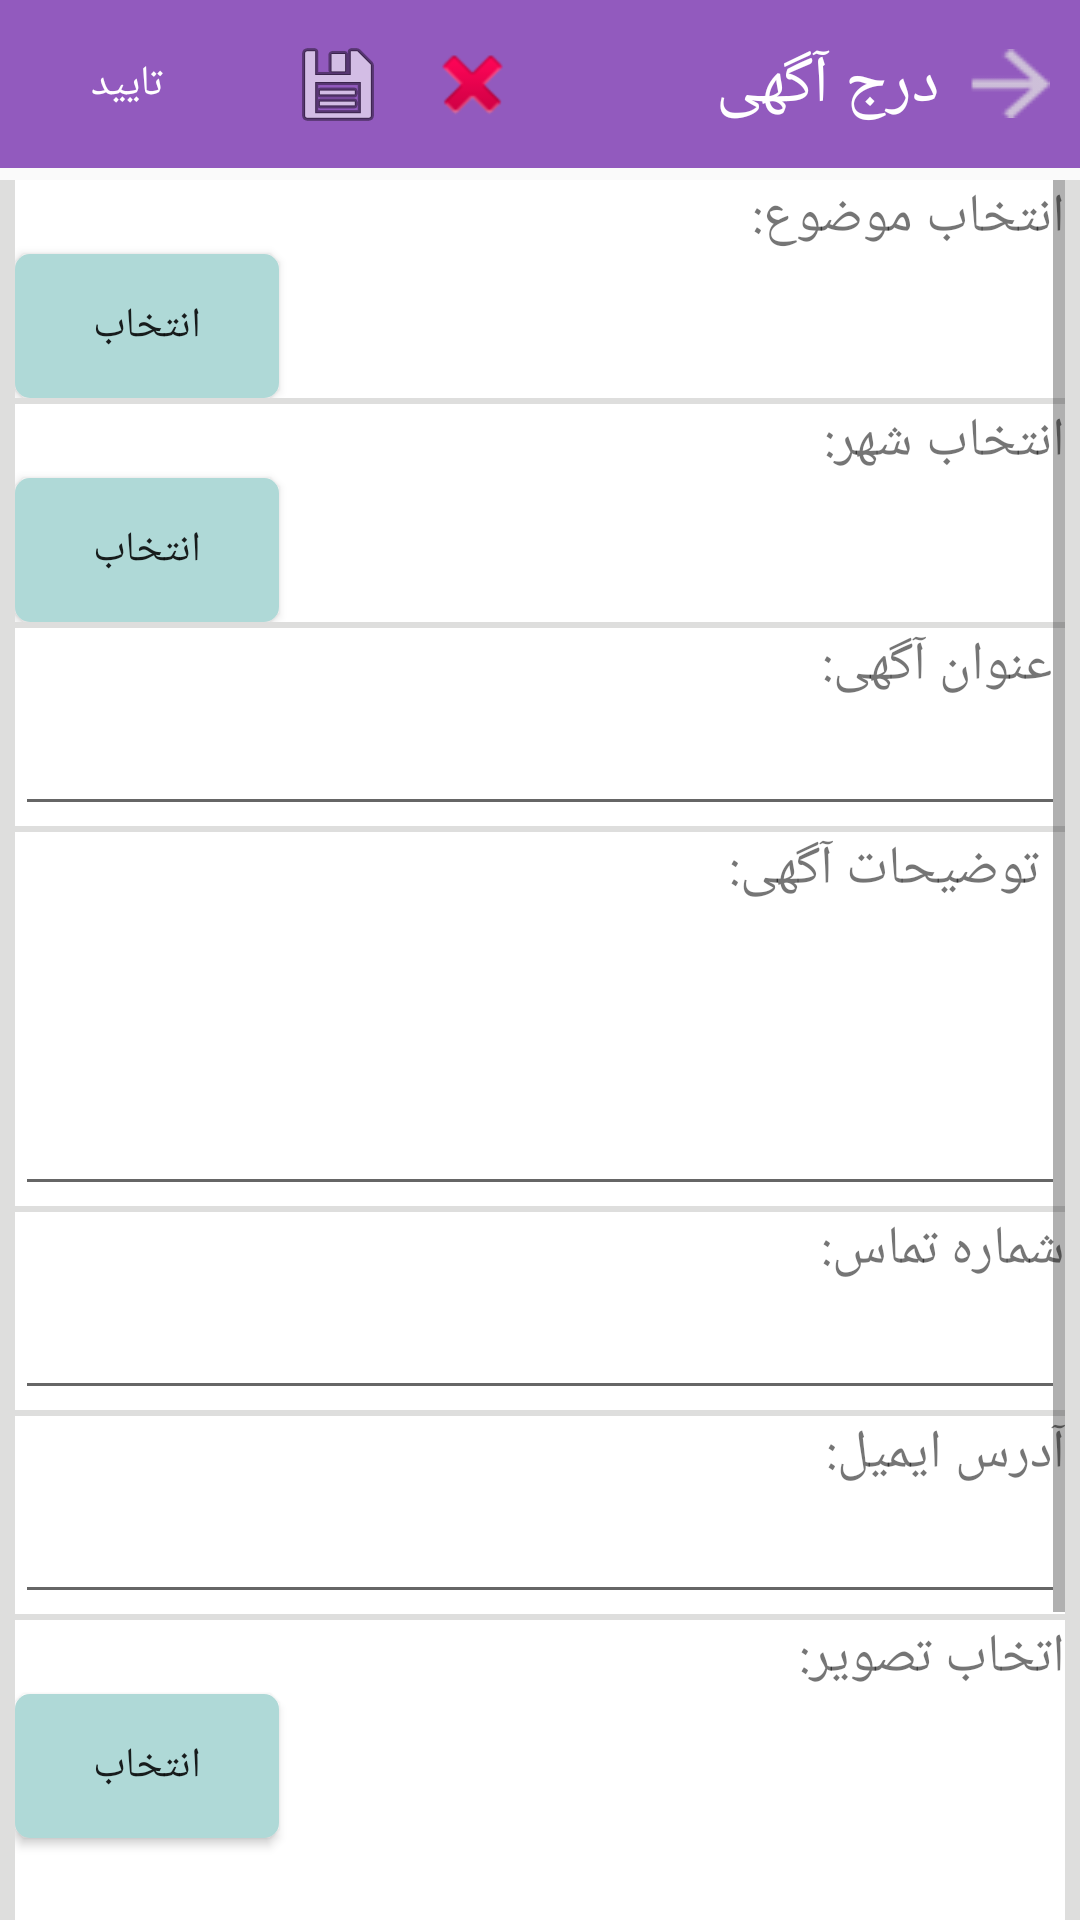

Named icons in this screenshot (1080 × 1920) and their bounding boxes, (x1, y1, x2, y2):
delete: (442, 55, 503, 113)
save: (302, 48, 374, 121)
